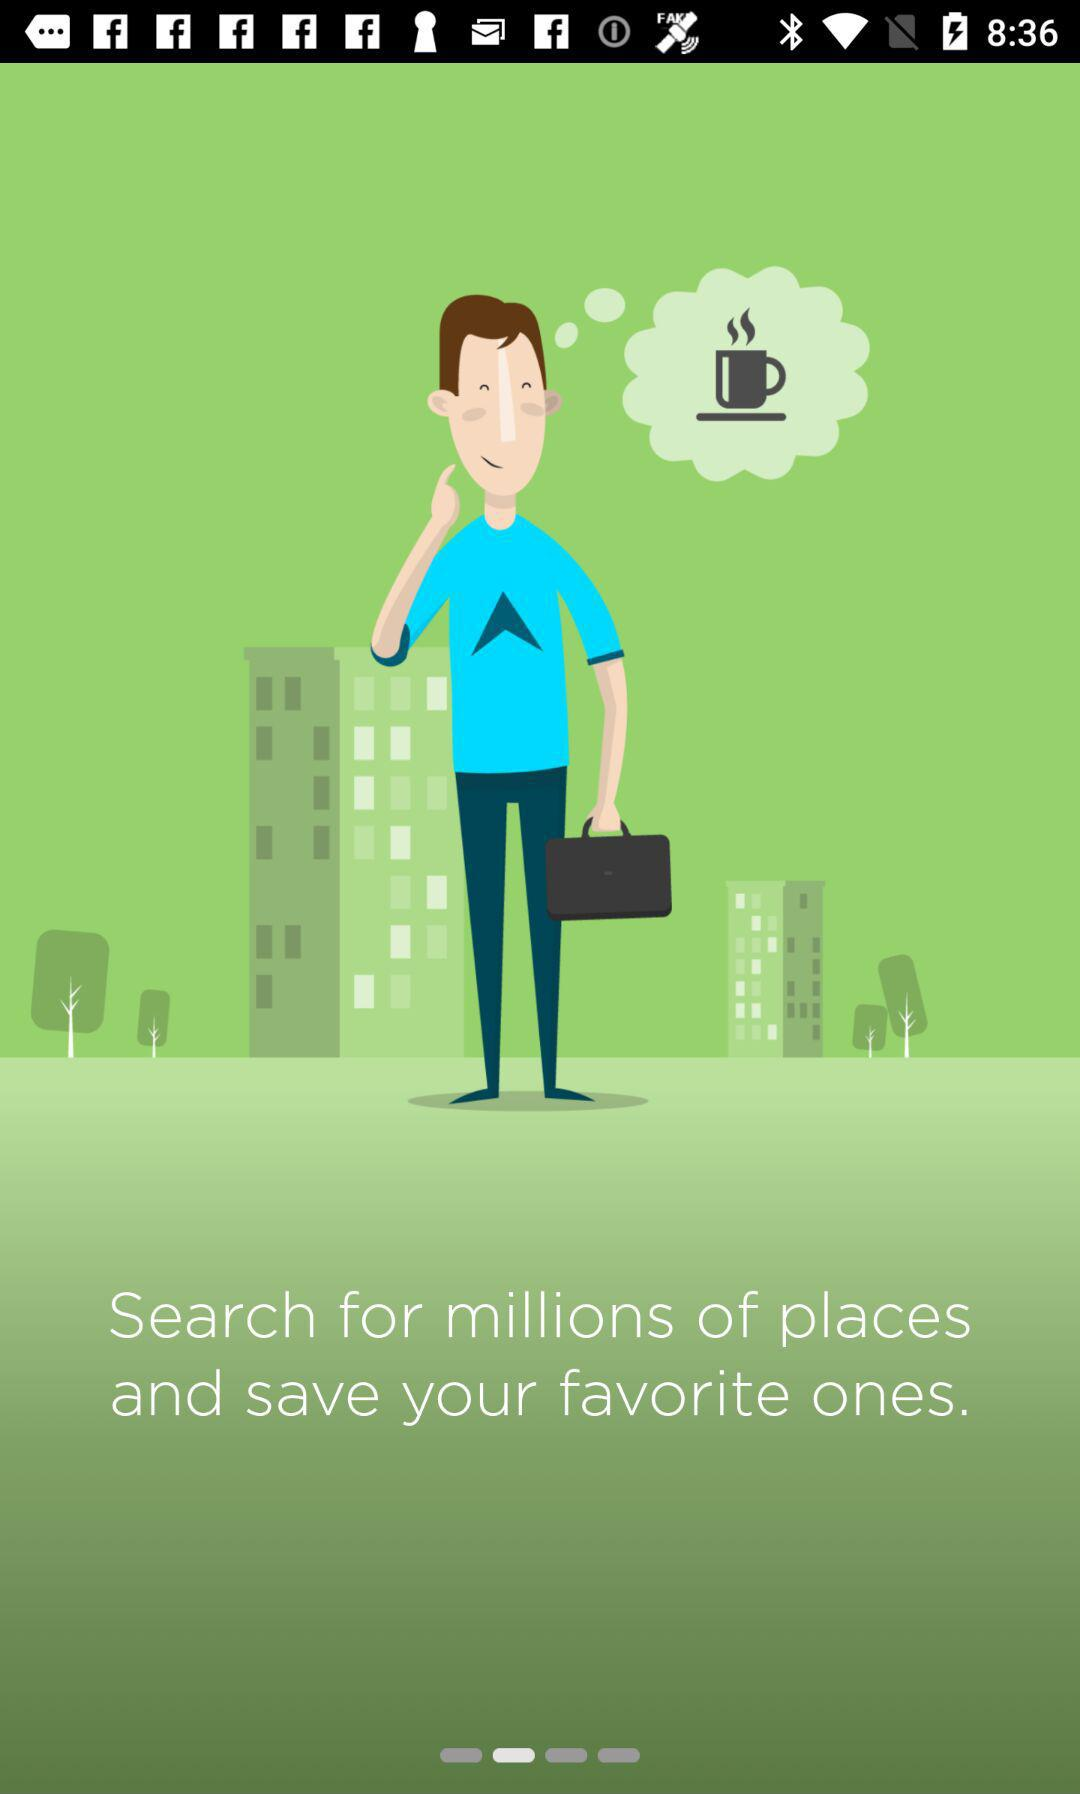BackgroundImage: (1, 64, 1080, 1794)
PageIndicator: (438, 1747, 642, 1765)
Text: (111, 1290, 971, 1428)
UpperTaskBar: (1, 1, 1080, 64)
